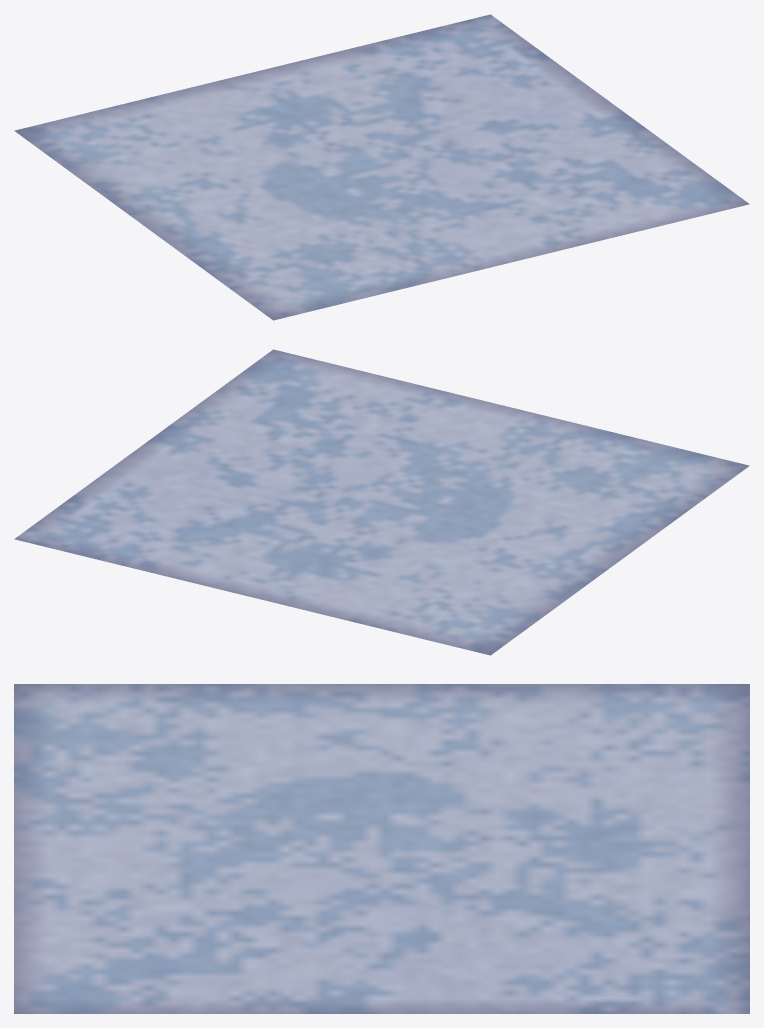
Rendered from Rice_Uncooked.fbx.
The picture shows the model from 3 angles, top to bottom: view 1: azimuth 30°, elevation 25°; view 2: azimuth 150°, elevation 25°; view 3: azimuth 270°, elevation 25°; orthographic projection. The views are drawn at different scales.
Parts seen in each view (by area): view 1: RiceUncooked; view 2: RiceUncooked; view 3: RiceUncooked.
Boxes of the visible parts, x1=… form: RiceUncooked: x1=14, y1=14, x2=749, y2=320; RiceUncooked: x1=14, y1=349, x2=749, y2=655; RiceUncooked: x1=14, y1=684, x2=749, y2=1013.
Size of the model in its own units: 82.51 by 0 by 77.77.
